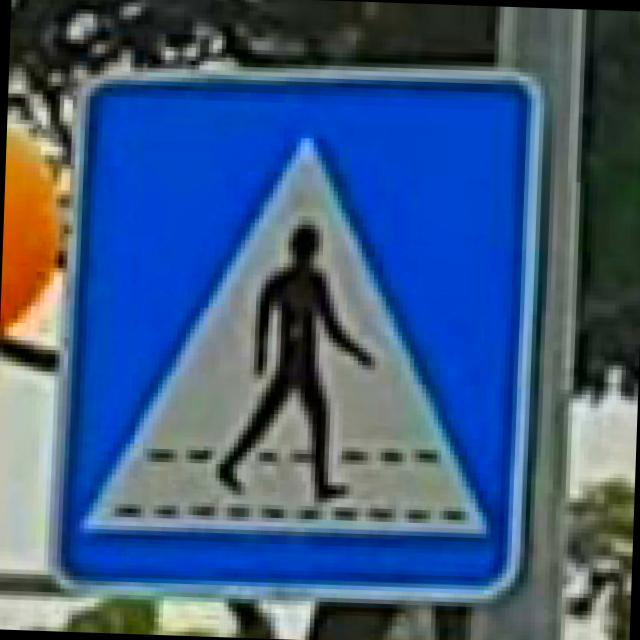zebracrossing_sign: (42, 47, 546, 604)
